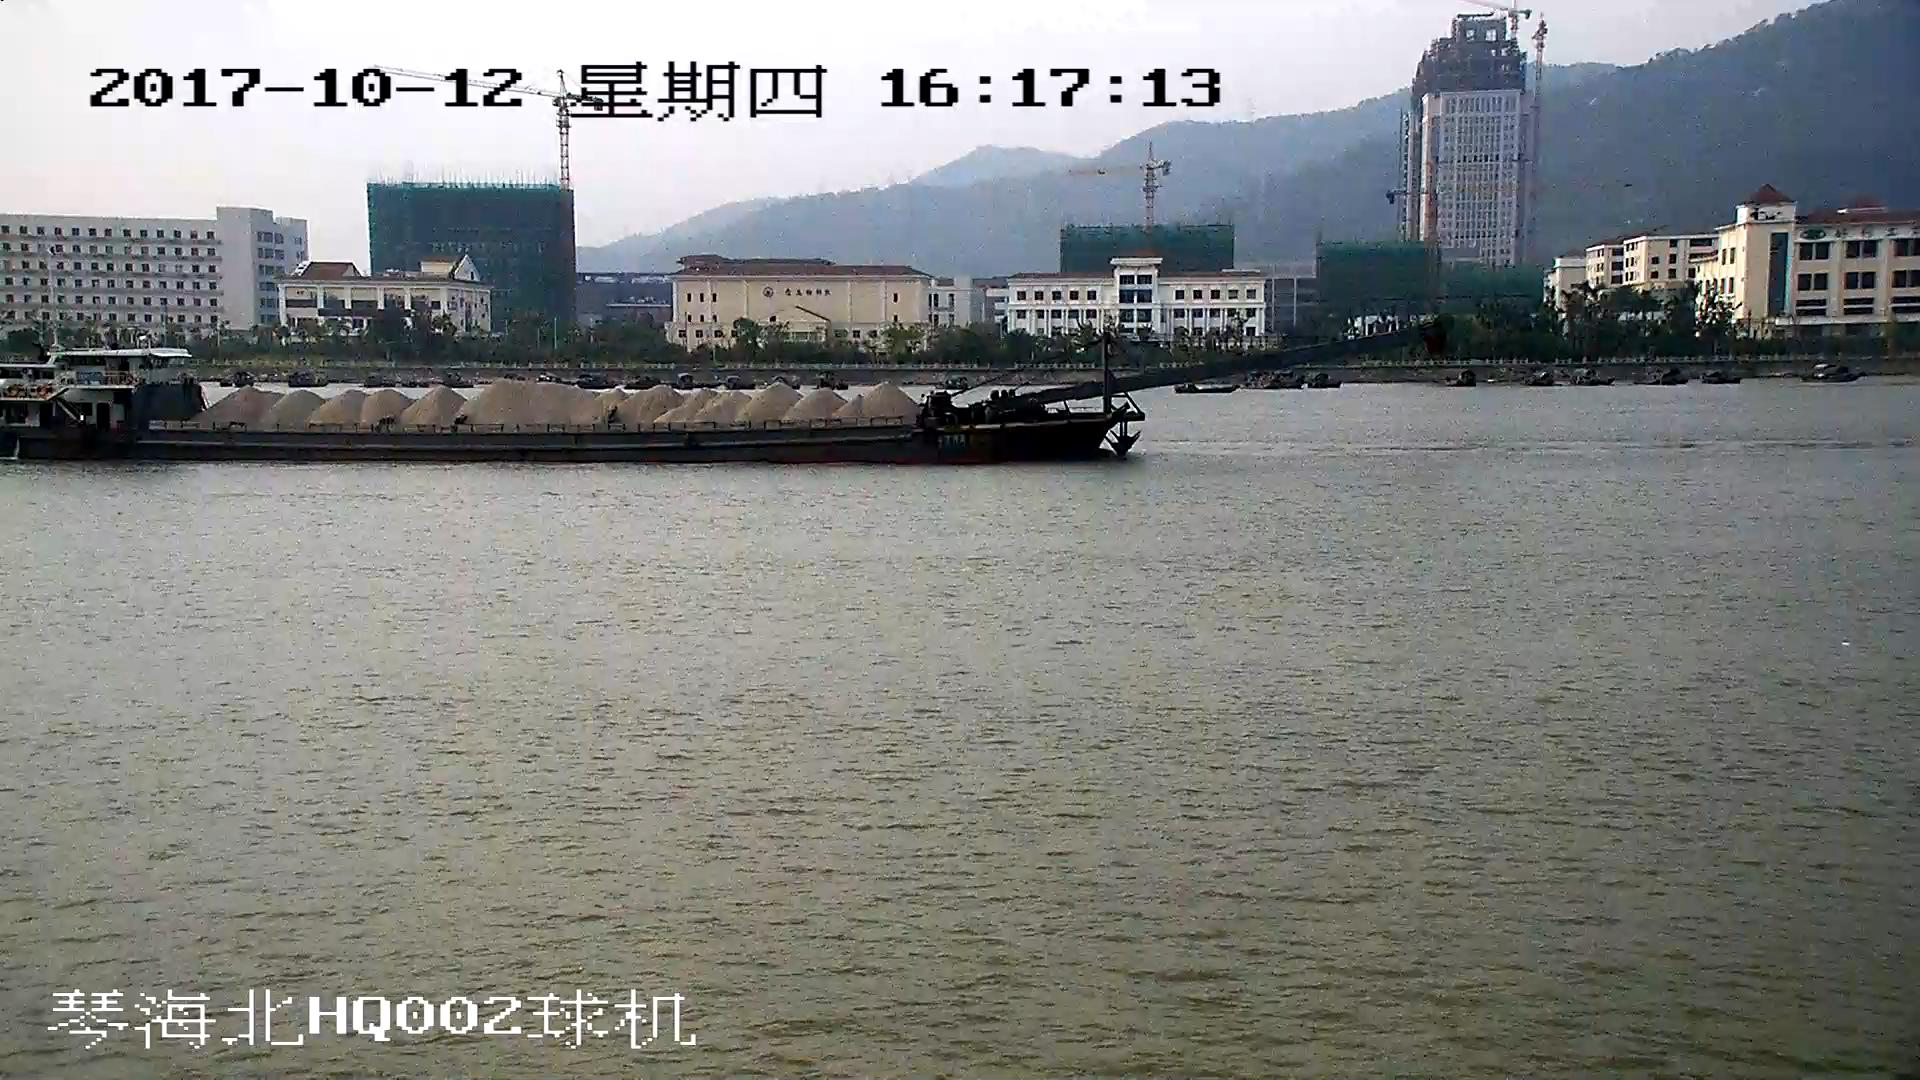ore carrier: (1, 320, 1445, 459)
